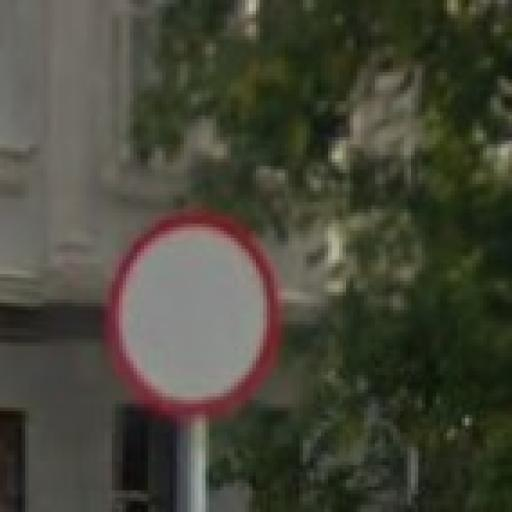traffic_sign: (106, 214, 279, 416)
